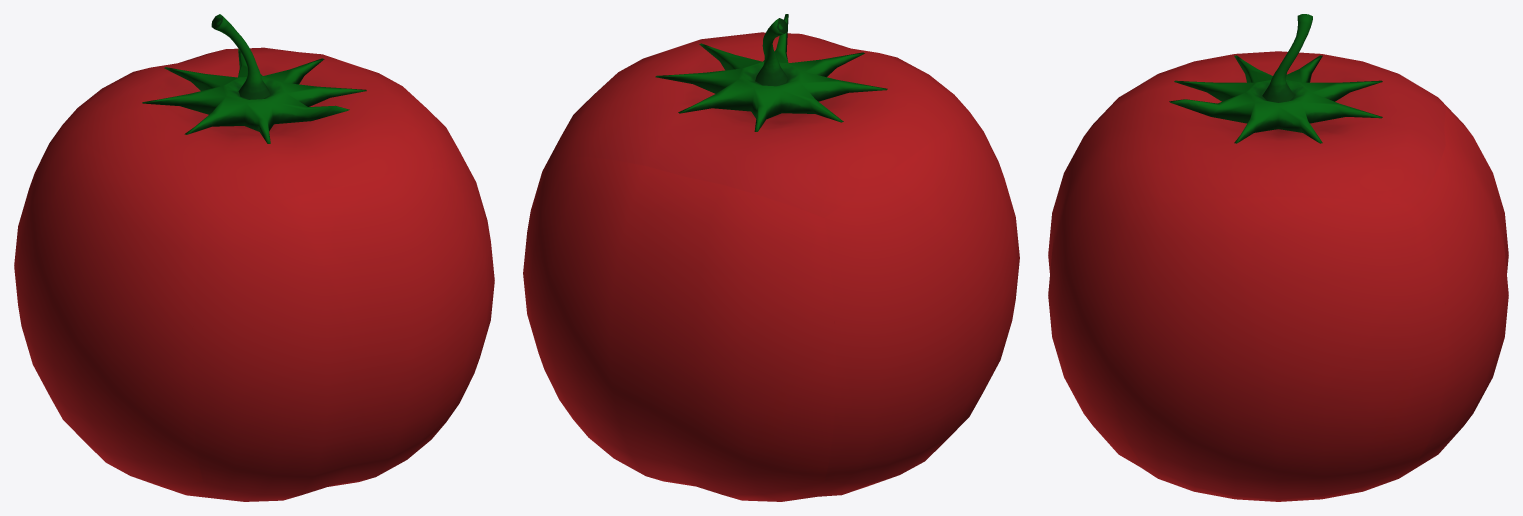
The model's file is M_Tomato.fbx.
The picture shows the model from 3 angles, left to right: view 1: azimuth 30°, elevation 25°; view 2: azimuth 150°, elevation 25°; view 3: azimuth 270°, elevation 25°; orthographic projection. The views are drawn at different scales.
Parts seen in each view (by area): view 1: Fruit; view 2: Fruit; view 3: Fruit.
Part boxes in pixels (box(x1,y1,x2,y2)): Fruit: box(14, 14, 494, 501); Fruit: box(523, 14, 1019, 501); Fruit: box(1048, 14, 1508, 501).
Size of the model in its own units: 5.73 by 5.74 by 5.63.
